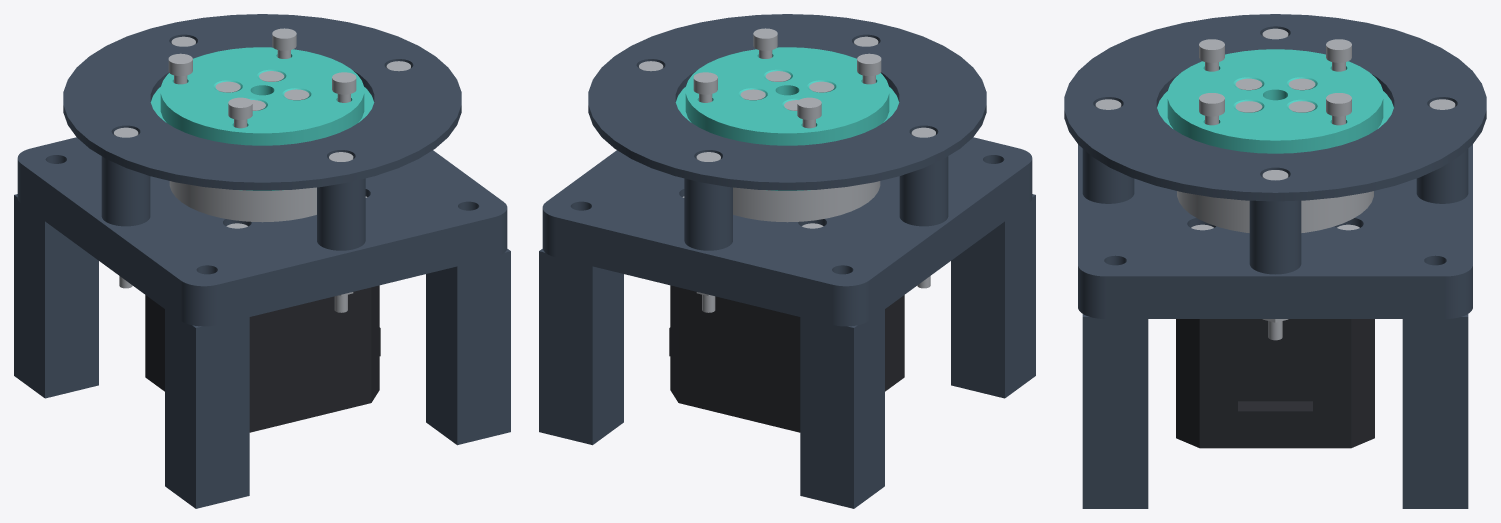
File: base-check.glb
The picture shows the model from 3 angles, left to right: view 1: azimuth 30°, elevation 25°; view 2: azimuth 150°, elevation 25°; view 3: azimuth 270°, elevation 25°; orthographic projection. The views are drawn at different scales.
Parts seen in each view (by area): view 1: yaw-motor-pedestal, yaw-uplift-retainer, yaw-motor-direct, yaw-turntable-adapter, yaw-thrust-bearing, body-m3x12-1, body-m3x12-3, body-m3x12-4, body-m3x12-2; view 2: yaw-motor-pedestal, yaw-uplift-retainer, yaw-motor-direct, yaw-turntable-adapter, yaw-thrust-bearing, body-m3x12-2, body-m3x12-3, body-m3x12-4, body-m3x12-1; view 3: yaw-motor-pedestal, yaw-uplift-retainer, yaw-motor-direct, yaw-turntable-adapter, yaw-thrust-bearing, body-m3x12-3, body-m3x12-4, body-m3x12-1, body-m3x12-2, retainer-m3x35-1, yaw-bearing-spindle.
Boxes of the visible parts, box(x1,y1,x2,y2) form: yaw-motor-pedestal: box(14, 137, 510, 508); yaw-uplift-retainer: box(63, 14, 461, 250); yaw-motor-direct: box(145, 285, 380, 432); yaw-turntable-adapter: box(160, 47, 364, 145); yaw-thrust-bearing: box(169, 181, 316, 222); body-m3x12-1: box(228, 97, 252, 128); body-m3x12-3: box(332, 72, 356, 102); body-m3x12-4: box(272, 28, 296, 58); body-m3x12-2: box(168, 53, 192, 84); yaw-motor-pedestal: box(539, 137, 1035, 508); yaw-uplift-retainer: box(588, 14, 986, 250); yaw-motor-direct: box(669, 285, 904, 432); yaw-turntable-adapter: box(685, 47, 889, 145); yaw-thrust-bearing: box(733, 181, 880, 222); body-m3x12-2: box(797, 97, 821, 128); body-m3x12-3: box(753, 28, 777, 58); body-m3x12-4: box(693, 72, 717, 102); body-m3x12-1: box(857, 53, 881, 84); yaw-motor-pedestal: box(1078, 144, 1472, 508); yaw-uplift-retainer: box(1064, 14, 1486, 274); yaw-motor-direct: box(1176, 319, 1374, 448); yaw-turntable-adapter: box(1167, 49, 1383, 153); yaw-thrust-bearing: box(1177, 191, 1373, 232); body-m3x12-3: box(1199, 93, 1224, 125); body-m3x12-4: box(1326, 93, 1351, 125); body-m3x12-1: box(1199, 39, 1224, 71); body-m3x12-2: box(1326, 39, 1351, 71); retainer-m3x35-1: box(1262, 170, 1288, 340); yaw-bearing-spindle: box(1157, 91, 1393, 128).
Size of the model in its own units: 0.09 by 0.0835 by 0.0897.
